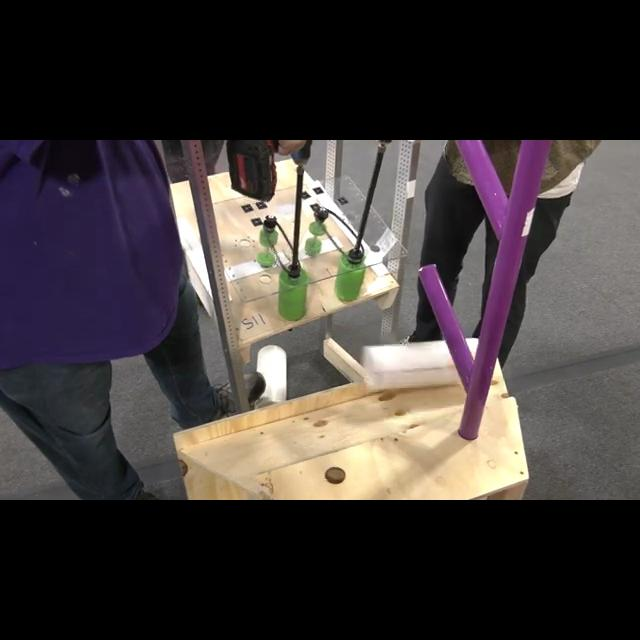CORAL: (363, 338, 479, 389), (258, 346, 286, 408)
